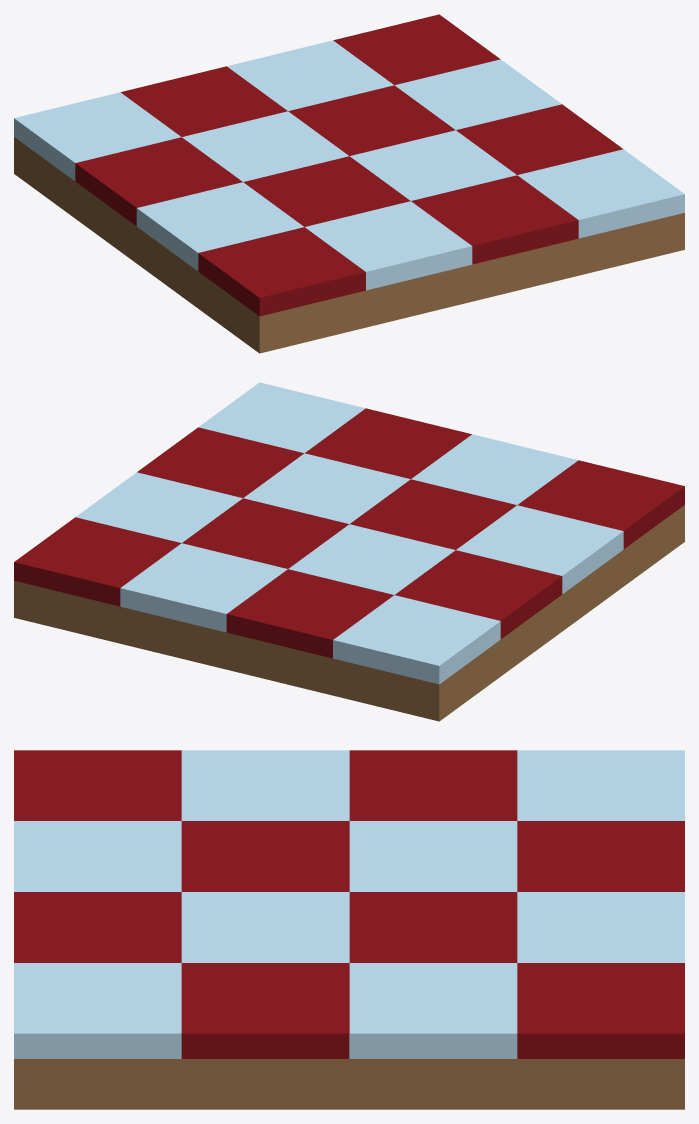
Rendered from Floor_Kitchen1.fbx.
The picture shows the model from 3 angles, top to bottom: view 1: azimuth 30°, elevation 25°; view 2: azimuth 150°, elevation 25°; view 3: azimuth 270°, elevation 25°; orthographic projection. The views are drawn at different scales.
Visible parts, largest first — view 1: Floor_Kitchen1; view 2: Floor_Kitchen1; view 3: Floor_Kitchen1.
Boxes of the visible parts, <box> form: Floor_Kitchen1: <box>14,14,684,353</box>; Floor_Kitchen1: <box>14,382,684,721</box>; Floor_Kitchen1: <box>14,750,684,1109</box>.
Size of the model in its own units: 400 by 50 by 400.
